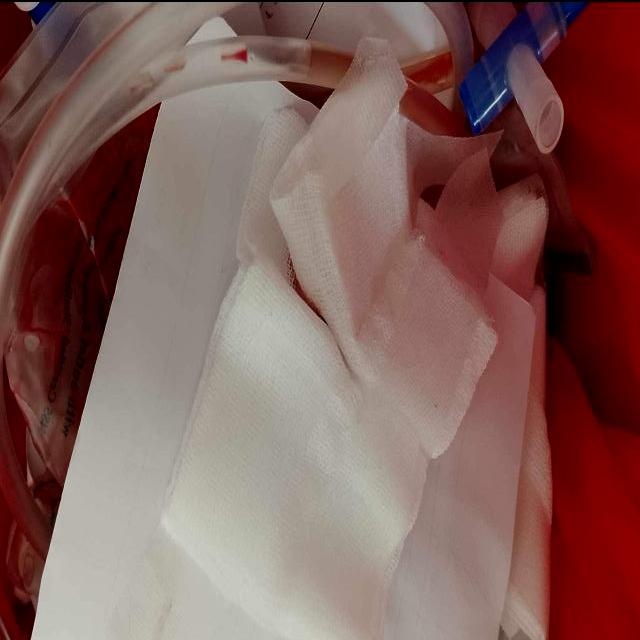General: (1, 2, 600, 637)
Sharps: (456, 0, 588, 136)
